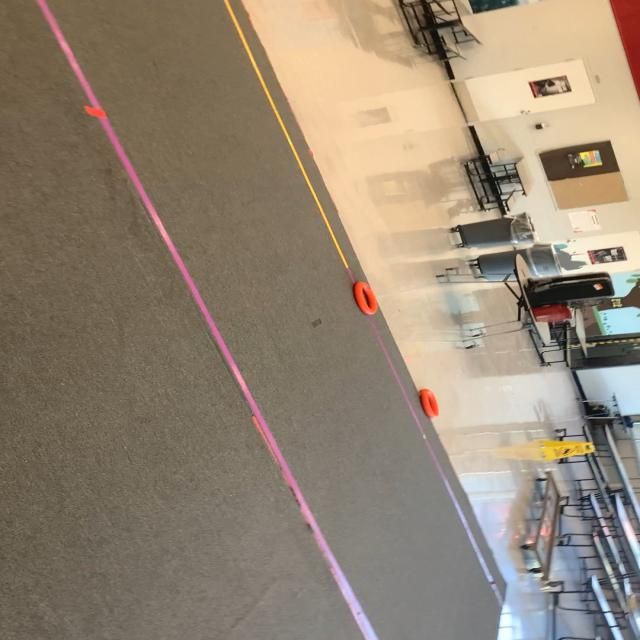notes: (354, 281, 381, 320), (416, 386, 439, 420)
